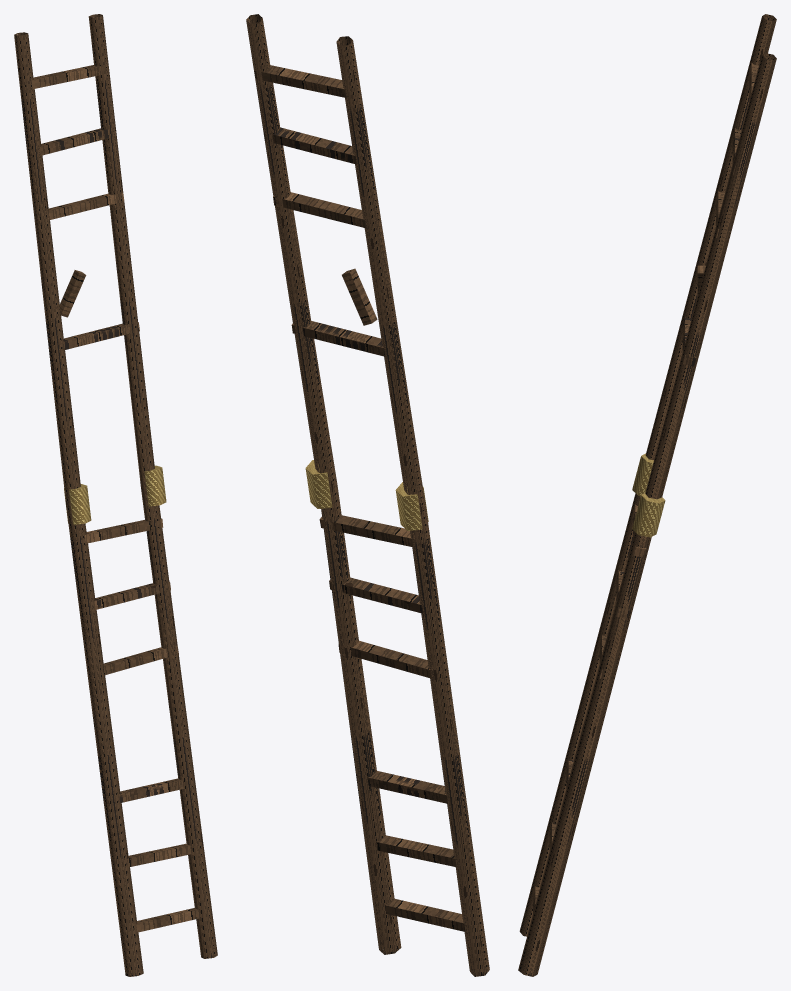
The model's file is prop_ladder.glb.
3 views of the same model, side by side, from view 1: azimuth 30°, elevation 25°; view 2: azimuth 150°, elevation 25°; view 3: azimuth 270°, elevation 25° (orthographic). The views are drawn at different scales.
Visible parts, largest first — view 1: prop_ladder; view 2: prop_ladder; view 3: prop_ladder.
Boxes of the visible parts, <box> form: prop_ladder: <box>14,14,217,976</box>; prop_ladder: <box>246,14,489,976</box>; prop_ladder: <box>518,14,776,976</box>.
Bounding box in the file's own units: 0.5961 × 5.26 × 1.34.
2 materials, 2 textured.
